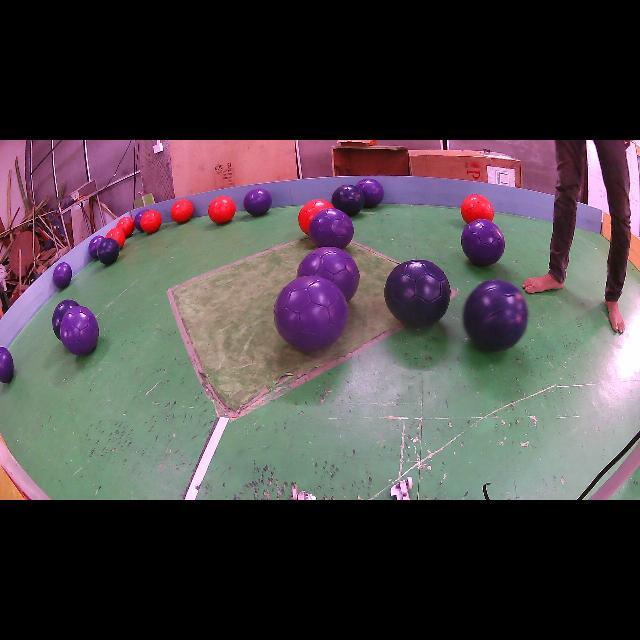B: (464, 280, 528, 351), (384, 260, 451, 326), (52, 299, 79, 340), (331, 184, 365, 216), (98, 238, 120, 265)
P: (274, 275, 348, 350), (296, 246, 360, 301), (461, 219, 505, 266), (60, 306, 99, 355), (309, 208, 354, 249), (356, 179, 384, 207), (244, 189, 272, 216), (52, 262, 72, 289), (0, 346, 14, 382), (89, 235, 105, 259), (134, 209, 149, 232)
R: (299, 199, 334, 235), (461, 194, 494, 224), (208, 196, 236, 224), (171, 199, 194, 222), (140, 210, 161, 232), (116, 216, 135, 238), (105, 228, 125, 248)
